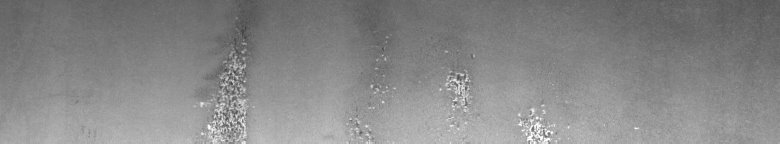hc: (193, 17, 255, 136)
